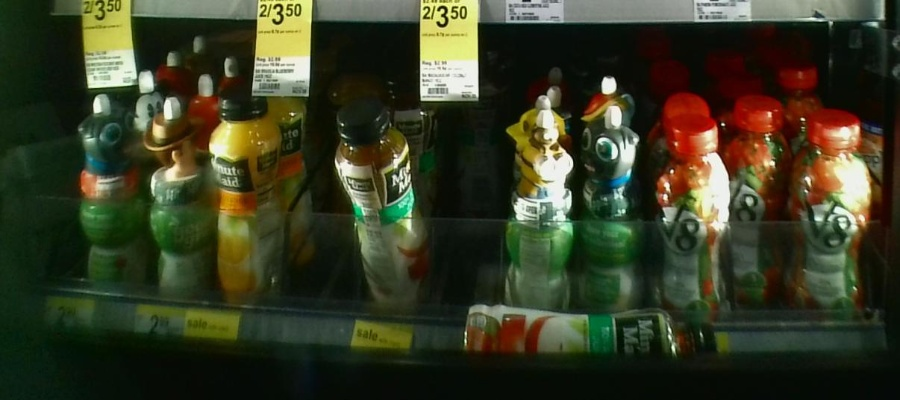bottle: (334, 96, 428, 322), (212, 83, 288, 310), (650, 112, 731, 324), (795, 101, 872, 317), (71, 93, 144, 298), (578, 105, 643, 313), (147, 91, 210, 304), (734, 98, 791, 309), (512, 110, 571, 310)
